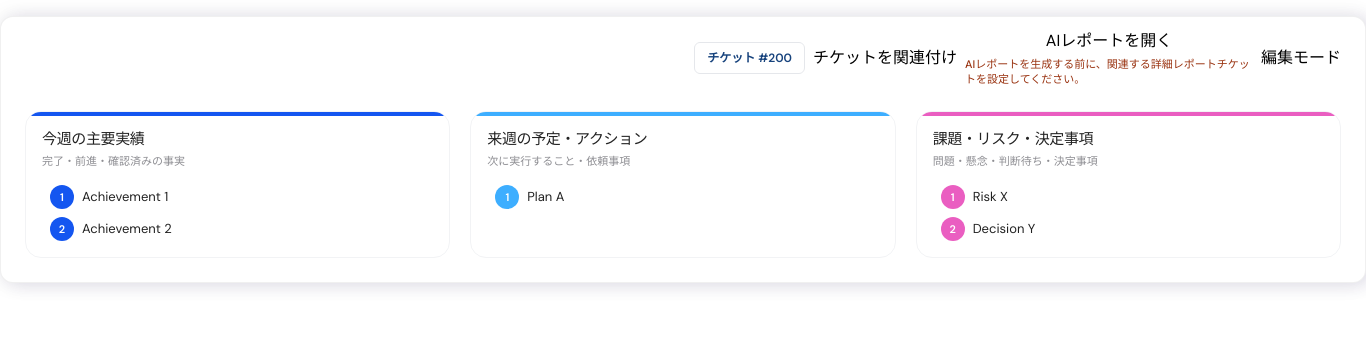
Test: ReportDetailPanel › allows deleting a row
Click the button with test id "toggle-edit-mode-btn". click: (1301, 58)
box: [1261,46,1341,70]
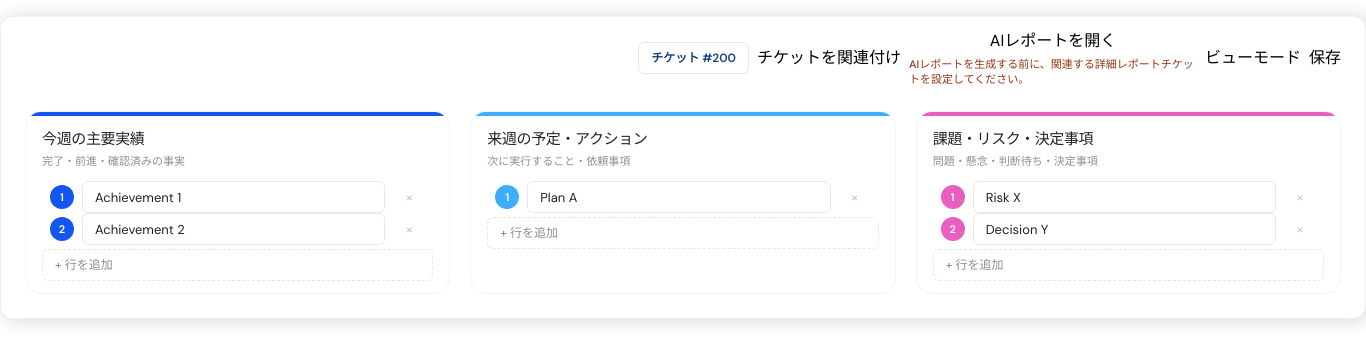
Expected: the field with test id "detail-input-fact-1" is shown, [82,213,385,245]
// Delete second row
Click the button with test id "detail-delete-fact-1". click: (409, 229)
box: [393,213,425,245]
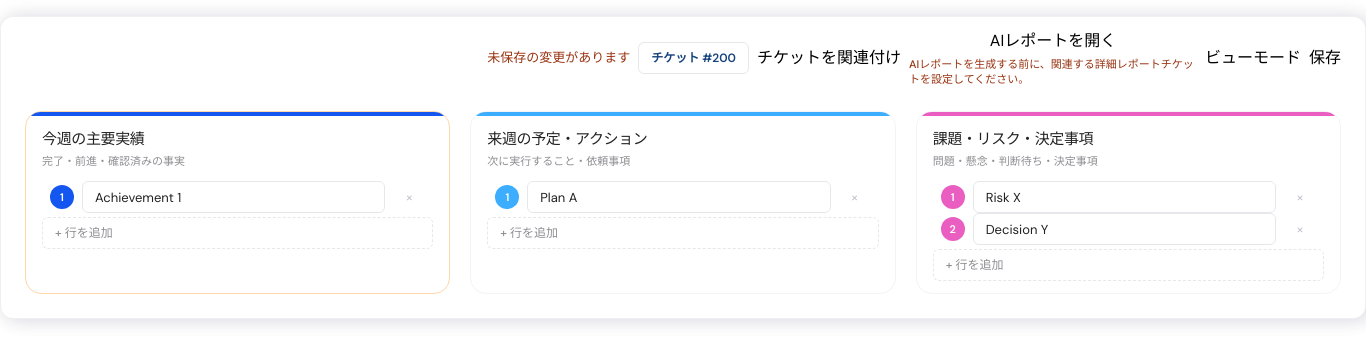
Expected: the field with test id "detail-input-fact-1" is gone
